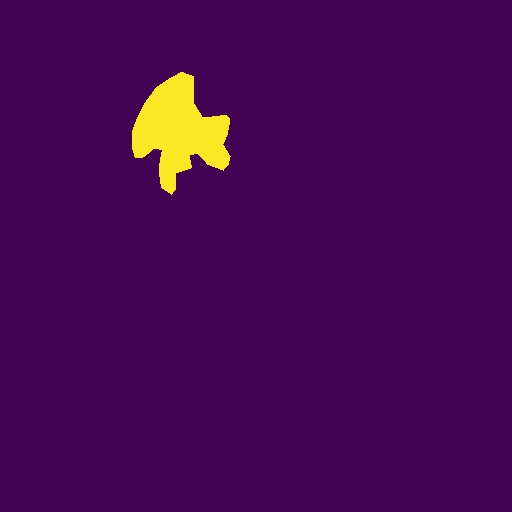Gliomia_tumour: (132, 72, 231, 195)
